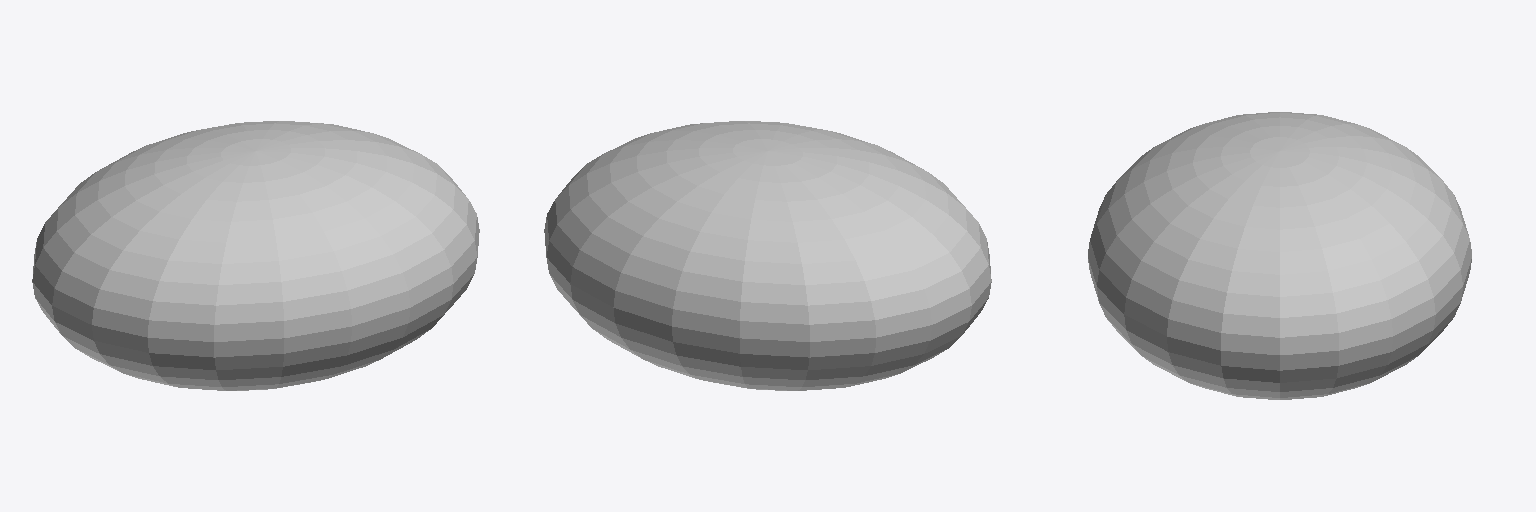
File: Mound.obj
3 renders of one model, left to right at view 1: azimuth 30°, elevation 25°; view 2: azimuth 150°, elevation 25°; view 3: azimuth 270°, elevation 25°, orthographic.
Visible parts, largest first — view 1: pSphere1; view 2: pSphere1; view 3: pSphere1.
Boxes of the visible parts, <box> form: pSphere1: <box>32,121,479,390</box>; pSphere1: <box>544,121,991,390</box>; pSphere1: <box>1088,112,1471,399</box>.
Bounding box in the file's own units: 21.13 × 10.37 × 17.27.